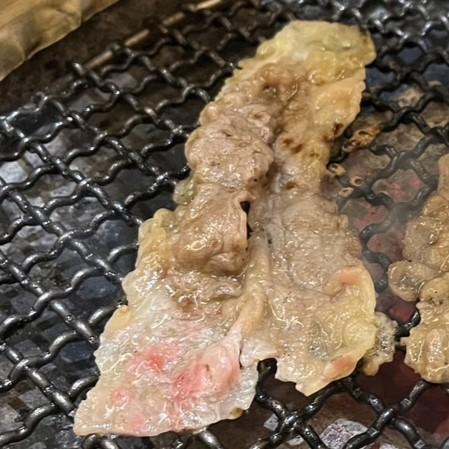Overcooked: (123, 21, 375, 315), (388, 154, 448, 381)
Undercooked: (73, 324, 249, 439)
Well-Cooked: (266, 278, 376, 394)
